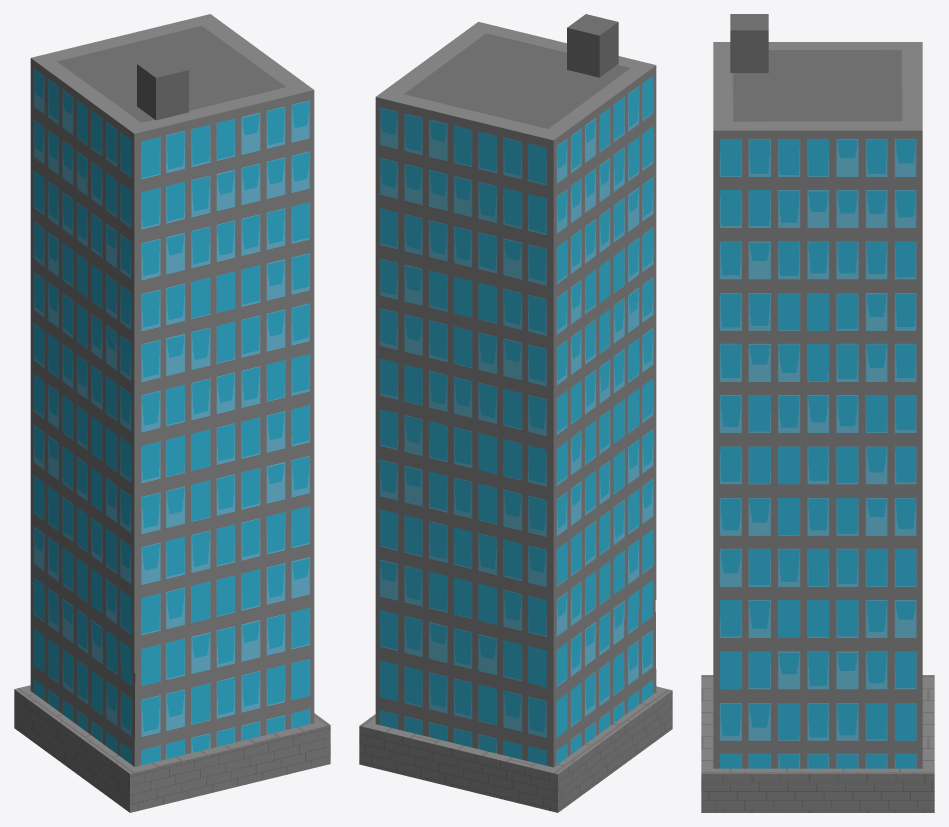
File: SkyScratcher1_destructable.fbx
3 views of the same model, side by side, from view 1: azimuth 30°, elevation 25°; view 2: azimuth 150°, elevation 25°; view 3: azimuth 270°, elevation 25° (orthographic).
Parts seen in each view (by area): view 1: SkyScratcher1.001_cell.004, SkyScratcher1_destructable, SkyScratcher1.001_cell.010, SkyScratcher1.001_cell.006, SkyScratcher1.001_cell.003, SkyScratcher1.001_cell.009, SkyScratcher1.001_cell.002; view 2: SkyScratcher1_destructable, SkyScratcher1.001_cell.011, SkyScratcher1.001_cell.002, SkyScratcher1.001_cell.004, SkyScratcher1.001_cell.003, SkyScratcher1.001_cell.013, SkyScratcher1.001_cell.009, SkyScratcher1.001_cell.008, SkyScratcher1.001_cell.006; view 3: SkyScratcher1.001_cell.004, SkyScratcher1.001_cell.006, SkyScratcher1_destructable, SkyScratcher1.001_cell.007, SkyScratcher1.001_cell.001, SkyScratcher1.001_cell.012, SkyScratcher1.001_cell.002.
Boxes of the visible parts, box(x1,y1,x2,y2) form: SkyScratcher1.001_cell.004: box(54, 14, 314, 319); SkyScratcher1_destructable: box(14, 582, 330, 812); SkyScratcher1.001_cell.010: box(134, 377, 314, 673); SkyScratcher1.001_cell.006: box(99, 236, 314, 495); SkyScratcher1.001_cell.003: box(30, 336, 134, 672); SkyScratcher1.001_cell.009: box(30, 193, 111, 467); SkyScratcher1.001_cell.002: box(30, 28, 150, 306); SkyScratcher1_destructable: box(359, 600, 672, 812); SkyScratcher1.001_cell.011: box(375, 323, 553, 636); SkyScratcher1.001_cell.002: box(384, 111, 596, 387); SkyScratcher1.001_cell.004: box(375, 14, 656, 250); SkyScratcher1.001_cell.003: box(553, 299, 656, 658); SkyScratcher1.001_cell.013: box(375, 149, 553, 425); SkyScratcher1.001_cell.009: box(553, 211, 633, 546); SkyScratcher1.001_cell.008: box(387, 547, 553, 659); SkyScratcher1.001_cell.006: box(621, 250, 656, 305); SkyScratcher1.001_cell.004: box(713, 14, 922, 276); SkyScratcher1.001_cell.006: box(713, 210, 899, 538); SkyScratcher1_destructable: box(701, 675, 934, 812); SkyScratcher1.001_cell.007: box(713, 508, 916, 692); SkyScratcher1.001_cell.001: box(773, 184, 922, 507); SkyScratcher1.001_cell.012: box(774, 460, 922, 679); SkyScratcher1.001_cell.002: box(875, 42, 922, 100).
Size of the model in its own units: 1.3 by 4.41 by 1.3.
